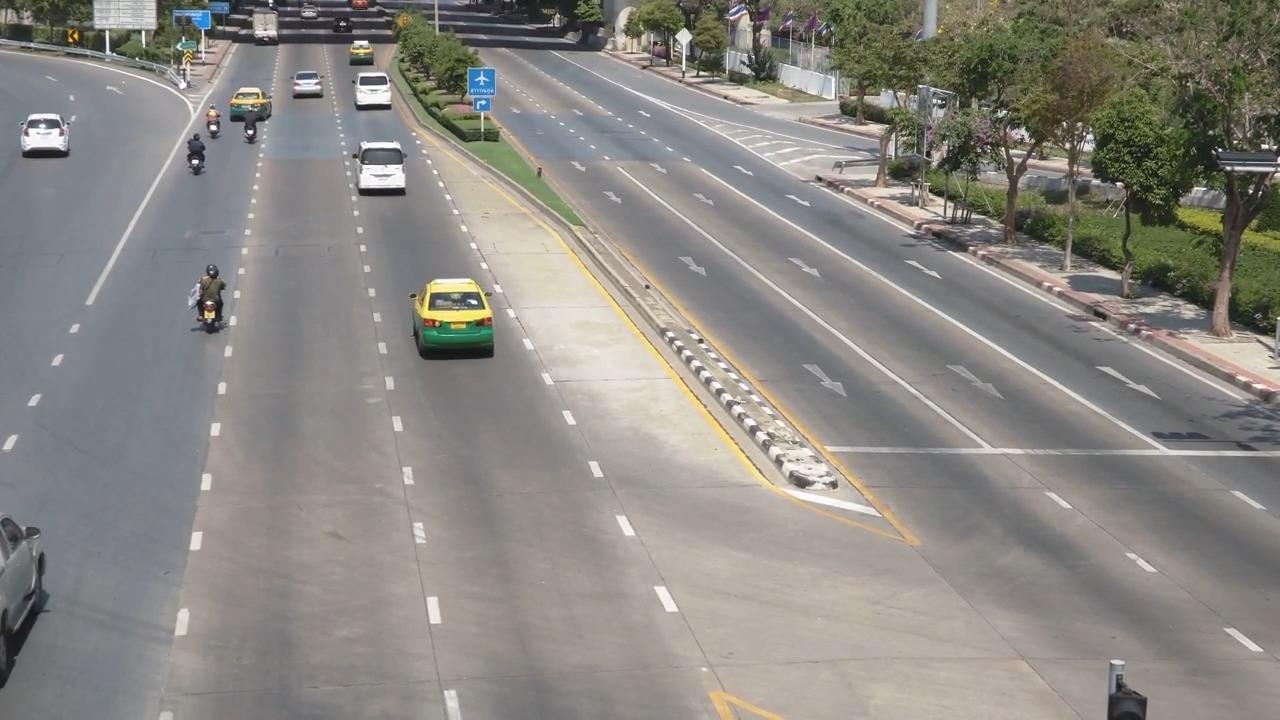CAR: (411, 267, 513, 368), (344, 134, 418, 214), (14, 91, 79, 172), (338, 64, 409, 124), (277, 63, 342, 118), (239, 6, 285, 61), (203, 93, 252, 137), (337, 37, 388, 73)
MOTOR: (169, 249, 253, 357), (227, 103, 268, 168), (169, 134, 210, 198), (191, 100, 225, 148)
